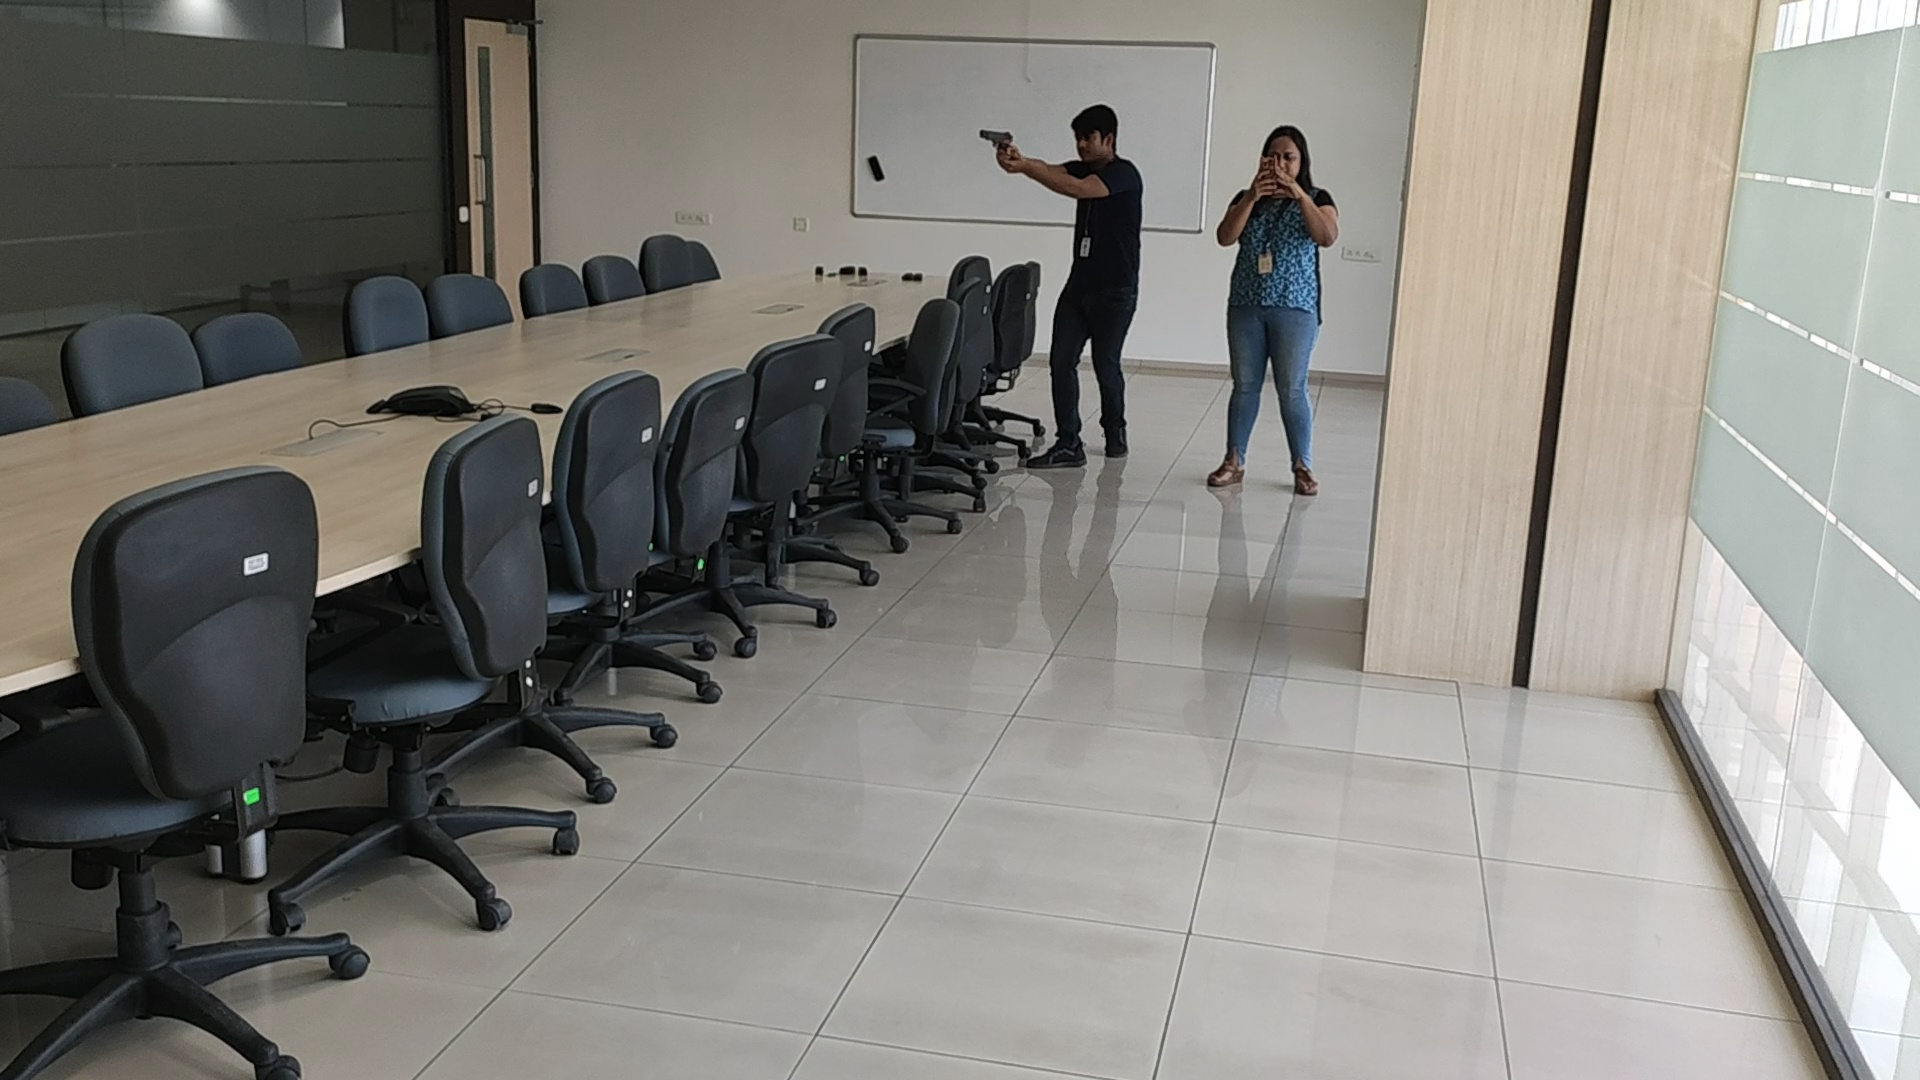gun: (976, 125, 1015, 154)
